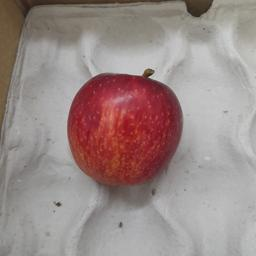Apple Ripe: (65, 60, 190, 193)
